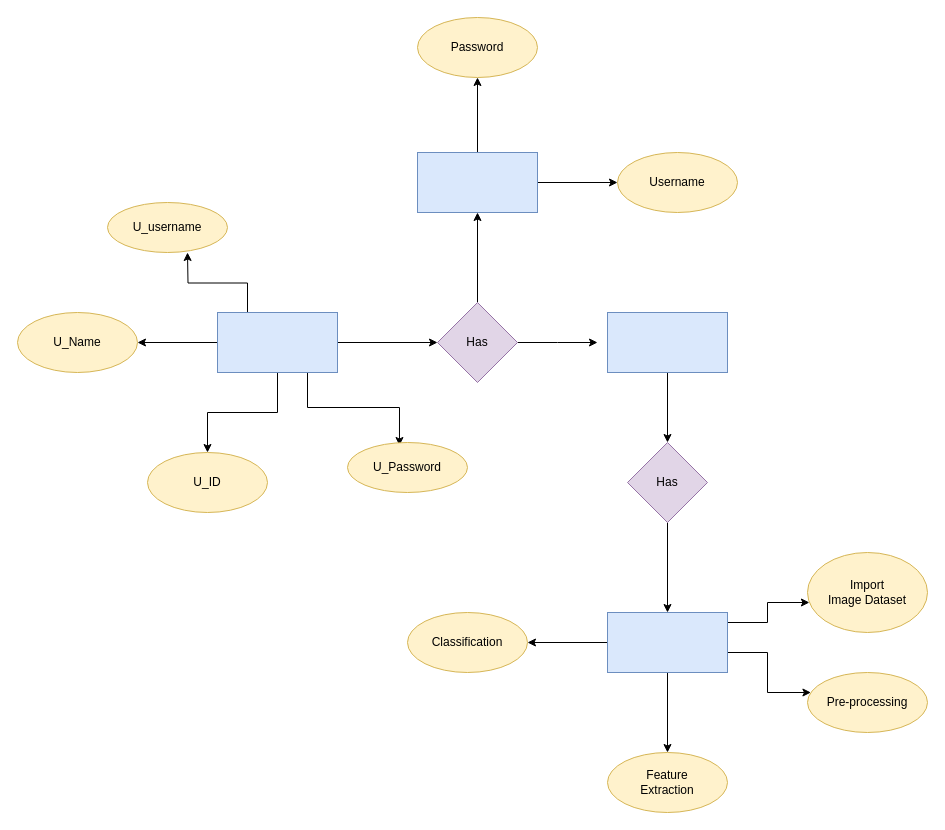
This 945x830 diagram has some shape labels left out. The shapes that lost their labels are listed below. From the top down, each one's box as (x1, y1, x2, y2) in pixels, then its label:
(416, 152, 538, 212): Login
(216, 312, 338, 372): User
(606, 312, 728, 372): System
(606, 612, 728, 672): Train Dataset
